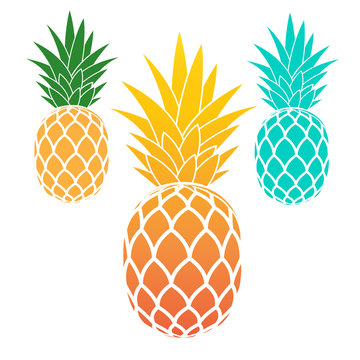Pineapple: (122, 32, 255, 342), (27, 12, 121, 201)
